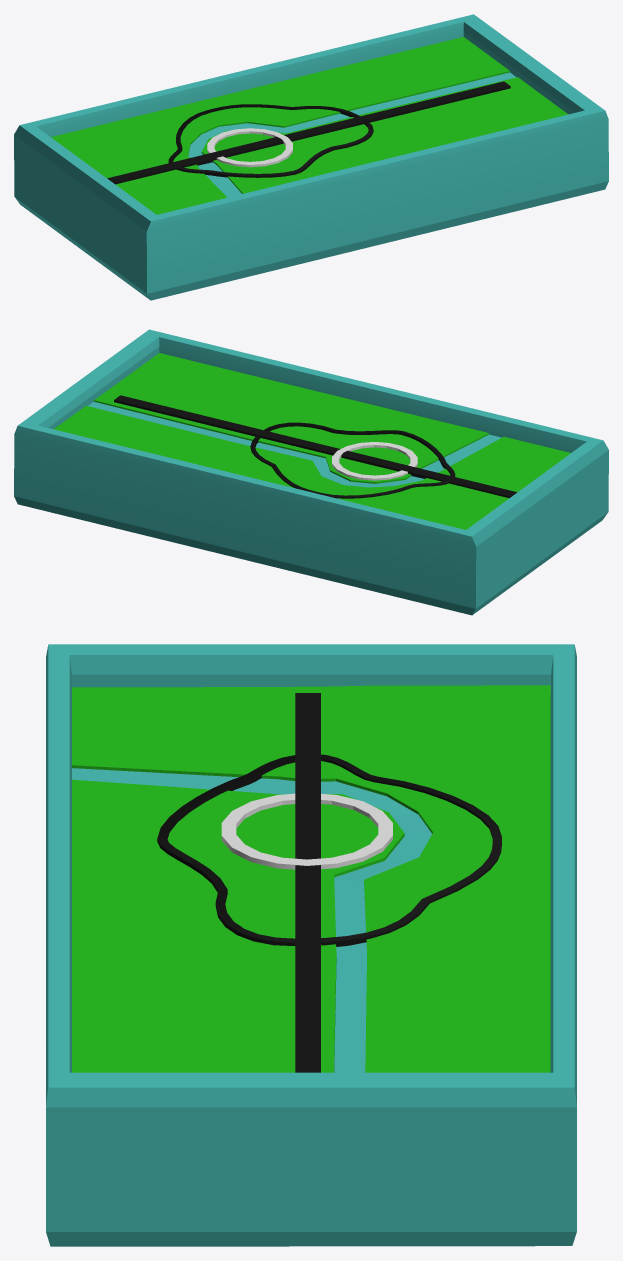
3 views of the same model, one above another, from view 1: azimuth 30°, elevation 25°; view 2: azimuth 150°, elevation 25°; view 3: azimuth 270°, elevation 25° (orthographic). The views are drawn at different scales.
Parts seen in each view (by area): view 1: sp02, sp01, sp05, sp04, sp03, sp00; view 2: sp02, sp01, sp05, sp04, sp03, sp00; view 3: sp01, sp02, sp04, sp05, sp03, sp00.
Part boxes in pixels (x1,y1,x2,y2): sp02: [14, 14, 608, 300]; sp01: [51, 37, 567, 214]; sp05: [107, 81, 510, 184]; sp04: [188, 72, 516, 197]; sp03: [168, 104, 373, 177]; sp00: [207, 128, 292, 167]; sp02: [14, 329, 608, 615]; sp01: [54, 353, 570, 529]; sp05: [114, 395, 516, 498]; sp04: [88, 402, 501, 487]; sp03: [250, 422, 455, 498]; sp00: [332, 442, 417, 480]; sp01: [72, 685, 550, 1072]; sp02: [46, 644, 576, 1246]; sp04: [72, 768, 431, 1072]; sp05: [295, 693, 320, 1072]; sp03: [157, 754, 501, 946]; sp00: [221, 793, 392, 869].
Size of the model in its own units: 47.6 by 7.84 by 23.69.
